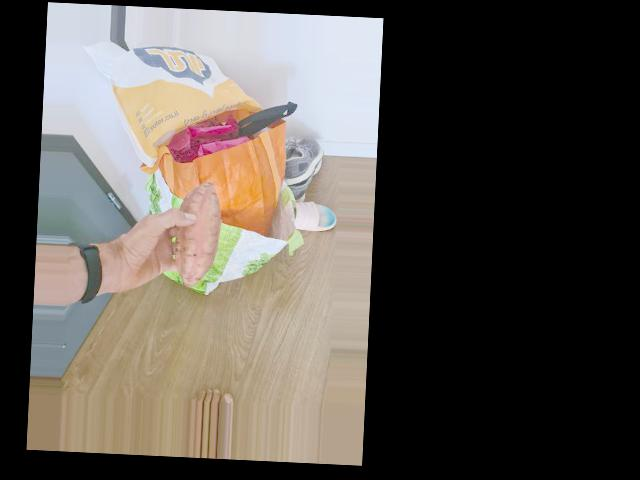sweet_potato: (168, 179, 220, 290)
